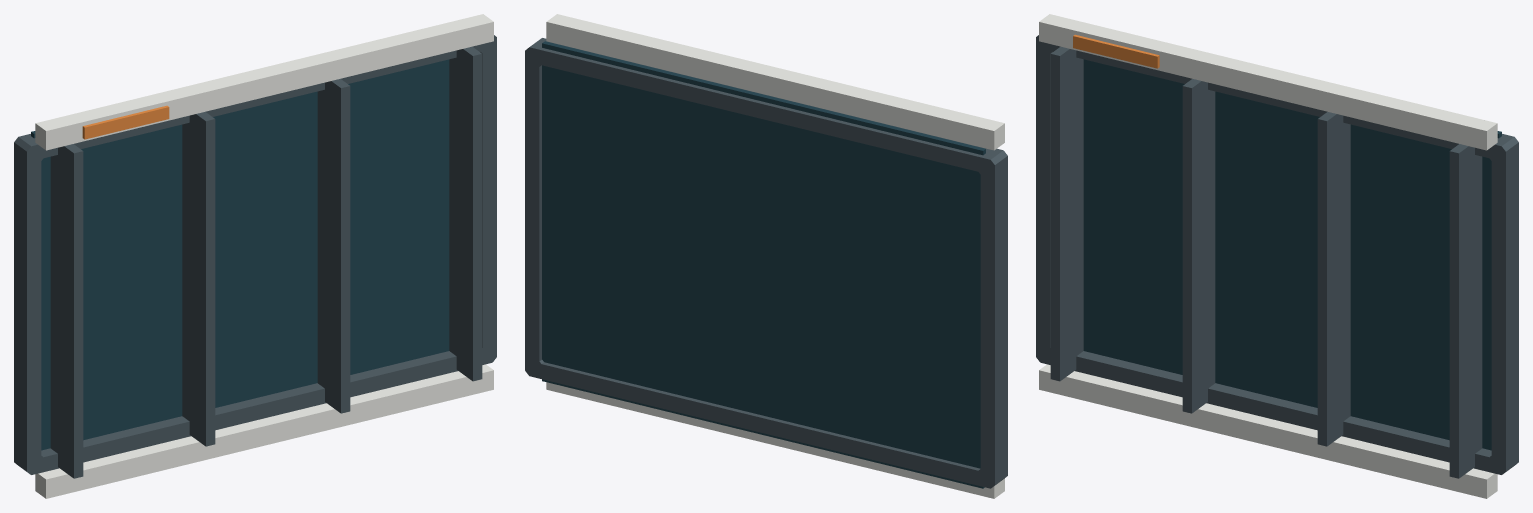
File: FacadeTransit.fbx
3 renders of one model, left to right at view 1: azimuth 30°, elevation 25°; view 2: azimuth 150°, elevation 25°; view 3: azimuth 330°, elevation 25°, orthographic.
Parts seen in each view (by area): view 1: FacadeTransit_SC_Glass, FacadeTransit_SC_Metal, FacadeTransit_SC_White, FacadeTransit_SC_Orange; view 2: FacadeTransit_SC_Glass, FacadeTransit_SC_Metal, FacadeTransit_SC_White; view 3: FacadeTransit_SC_Glass, FacadeTransit_SC_Metal, FacadeTransit_SC_White, FacadeTransit_SC_Orange.
Part boxes in pixels (x1,y1,x2,y2): FacadeTransit_SC_Glass: (31, 59, 449, 450); FacadeTransit_SC_Metal: (14, 35, 496, 478); FacadeTransit_SC_White: (35, 14, 493, 498); FacadeTransit_SC_Orange: (82, 105, 169, 139); FacadeTransit_SC_Glass: (542, 41, 985, 488); FacadeTransit_SC_Metal: (525, 38, 1007, 488); FacadeTransit_SC_White: (546, 14, 1004, 498); FacadeTransit_SC_Glass: (1083, 59, 1501, 450); FacadeTransit_SC_Metal: (1036, 35, 1518, 478); FacadeTransit_SC_White: (1039, 14, 1497, 498); FacadeTransit_SC_Orange: (1073, 34, 1159, 68).
Bounding box in the file's own units: 2.78 × 2.08 × 0.2985.
